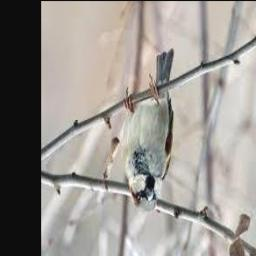Sparrow: (124, 50, 174, 213)
